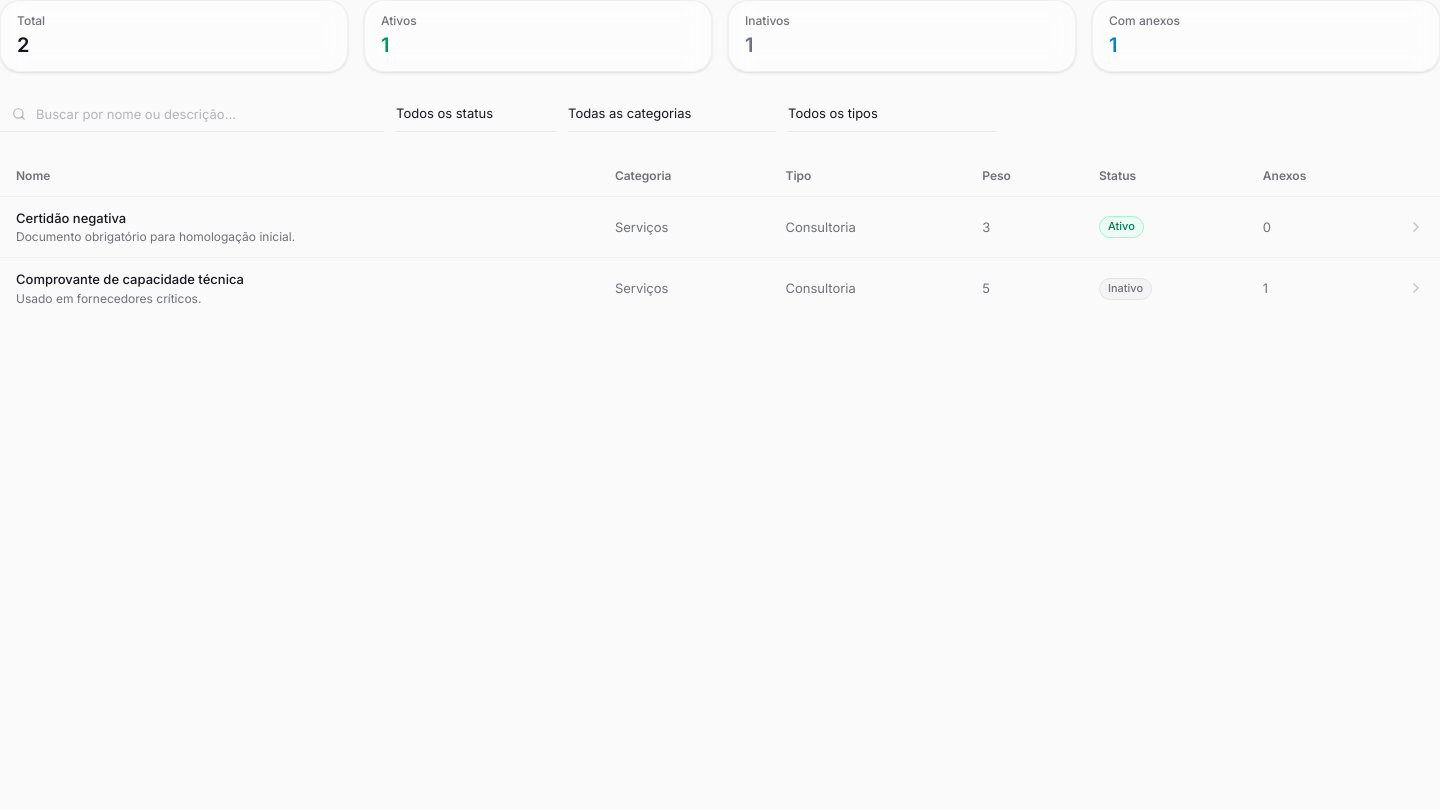
Test: suppliers pages › opens an existing requirement in read-only mode for analysts
The width and height of the screenshot is (1440, 810).
Click the text "Comprovante de capacidade técnica" at (130, 279), box [16, 271, 244, 287]
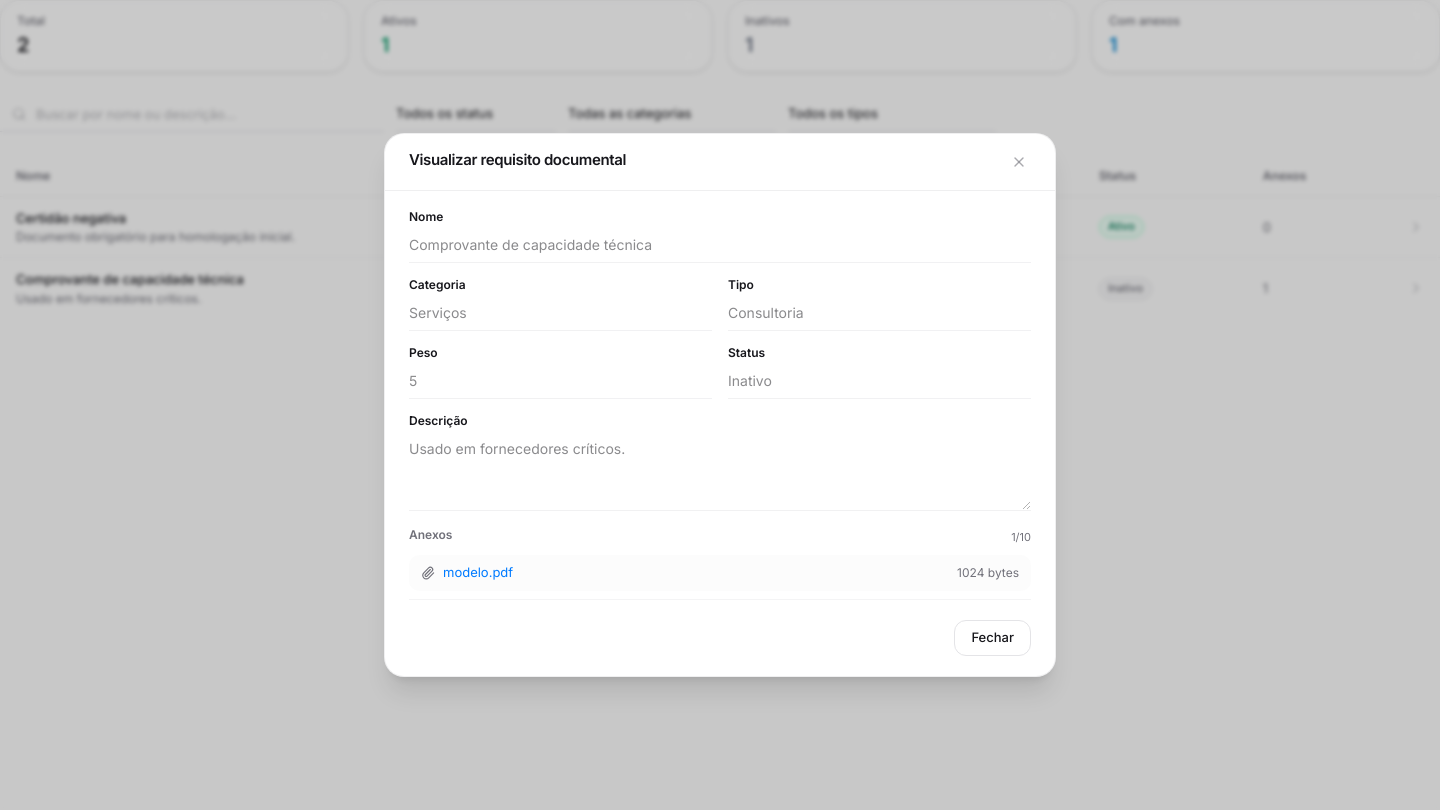
Expected: the heading "Visualizar requisito documental" is shown, [409, 152, 626, 167]
Expected: the field showing "Comprovante de capacidade técnica" is disabled, [409, 227, 1031, 263]
